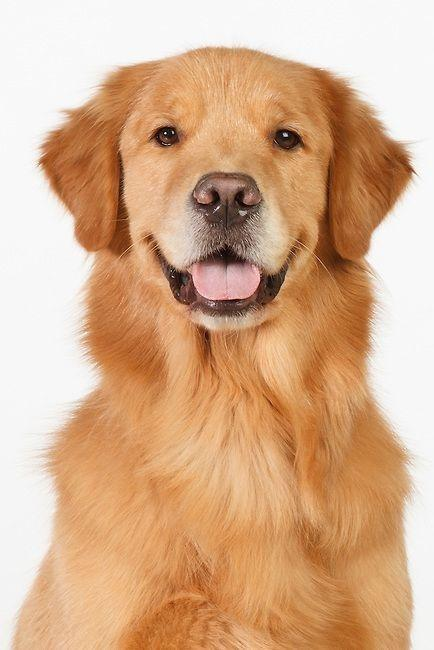adult_dog: (9, 43, 417, 650)
